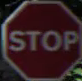Stop: (3, 3, 81, 74)
